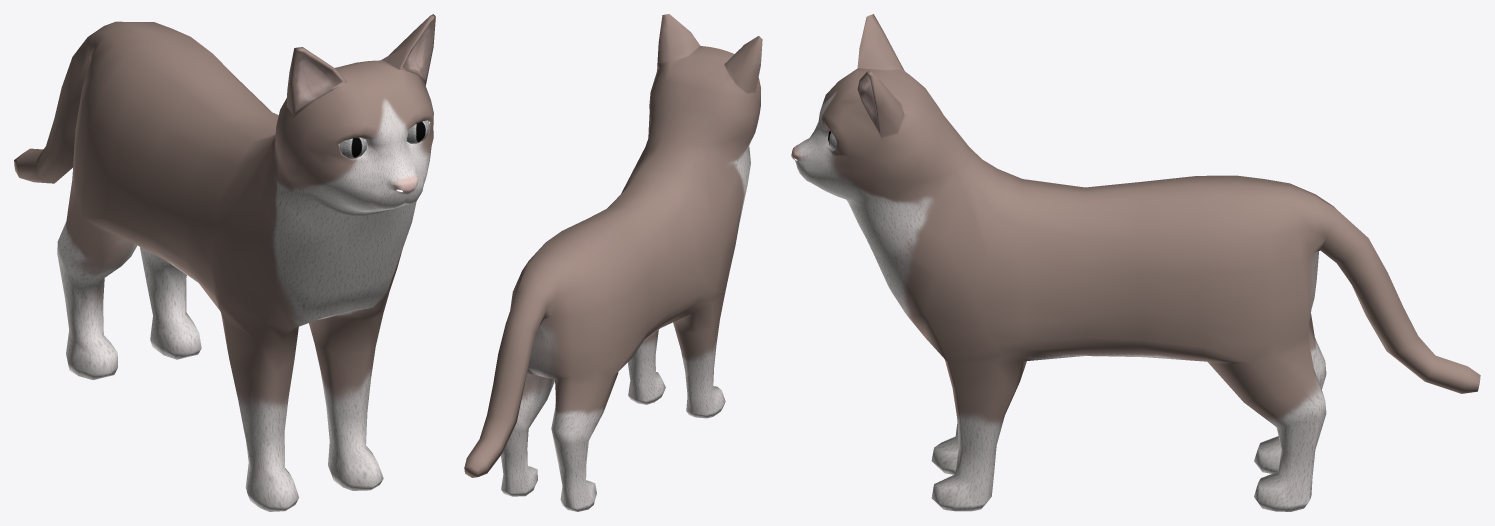
The model's file is cat_BWlilac.glb.
The picture shows the model from 3 angles, left to right: view 1: azimuth 30°, elevation 25°; view 2: azimuth 150°, elevation 25°; view 3: azimuth 270°, elevation 25°; orthographic projection. The views are drawn at different scales.
Parts seen in each view (by area): view 1: body cat_geo.001, cat_geo eyes.001; view 2: body cat_geo.001; view 3: body cat_geo.001.
Part boxes in pixels (x1,y1,x2,y2): body cat_geo.001: [14, 14, 435, 511]; cat_geo eyes.001: [338, 120, 429, 158]; body cat_geo.001: [464, 14, 762, 511]; body cat_geo.001: [791, 14, 1480, 511].
Size of the model in its own units: 1572 by 5053 by 7130.
Materials: 2 (2 with a texture image).
